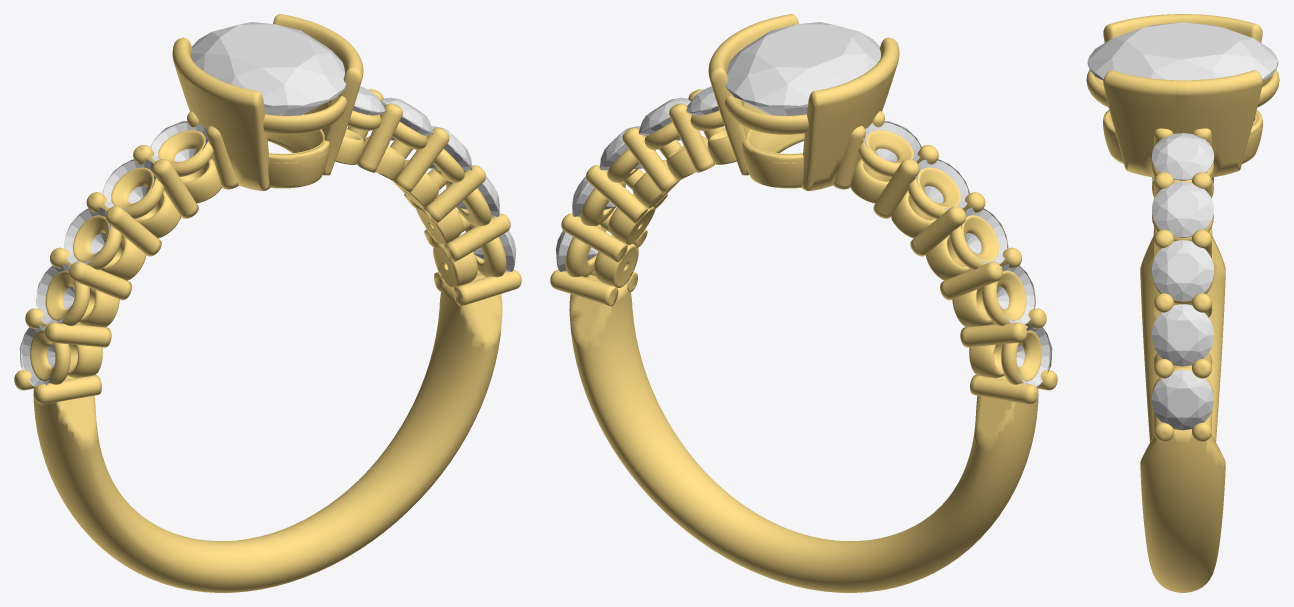
File: diamond-oval-yellowgold-halfmoonbezel-taperedband-11stone.glb
3 views of the same model, side by side, from view 1: azimuth 30°, elevation 25°; view 2: azimuth 150°, elevation 25°; view 3: azimuth 270°, elevation 25° (orthographic).
Parts seen in each view (by area): view 1: metal, stone.003, side.033, side.032, side.031, side.034, side.030, side.038; view 2: metal, stone.003, side.033, side.032, side.031, side.034, side.030, side.038; view 3: metal, stone.003, side.036, side.037, side.035, side.038, side.039.
Part boxes in pixels (x1,y1,x2,y2): metal: [14, 14, 521, 592]; stone.003: [191, 22, 346, 115]; side.033: [102, 158, 156, 209]; side.032: [63, 207, 110, 264]; side.031: [36, 263, 76, 324]; side.034: [150, 121, 209, 161]; side.030: [19, 324, 55, 386]; side.038: [381, 97, 433, 140]; metal: [550, 14, 1057, 592]; stone.003: [725, 22, 880, 115]; side.033: [915, 158, 969, 209]; side.032: [961, 207, 1008, 264]; side.031: [995, 263, 1035, 324]; side.034: [862, 121, 921, 161]; side.030: [1016, 324, 1052, 386]; side.038: [638, 97, 690, 140]; metal: [1086, 14, 1279, 592]; stone.003: [1087, 22, 1278, 80]; side.036: [1152, 304, 1213, 366]; side.037: [1152, 240, 1213, 301]; side.035: [1152, 369, 1213, 430]; side.038: [1152, 181, 1213, 237]; side.039: [1152, 133, 1213, 180].
Size of the model in its own units: 22.01 by 23.4 by 7.75.
